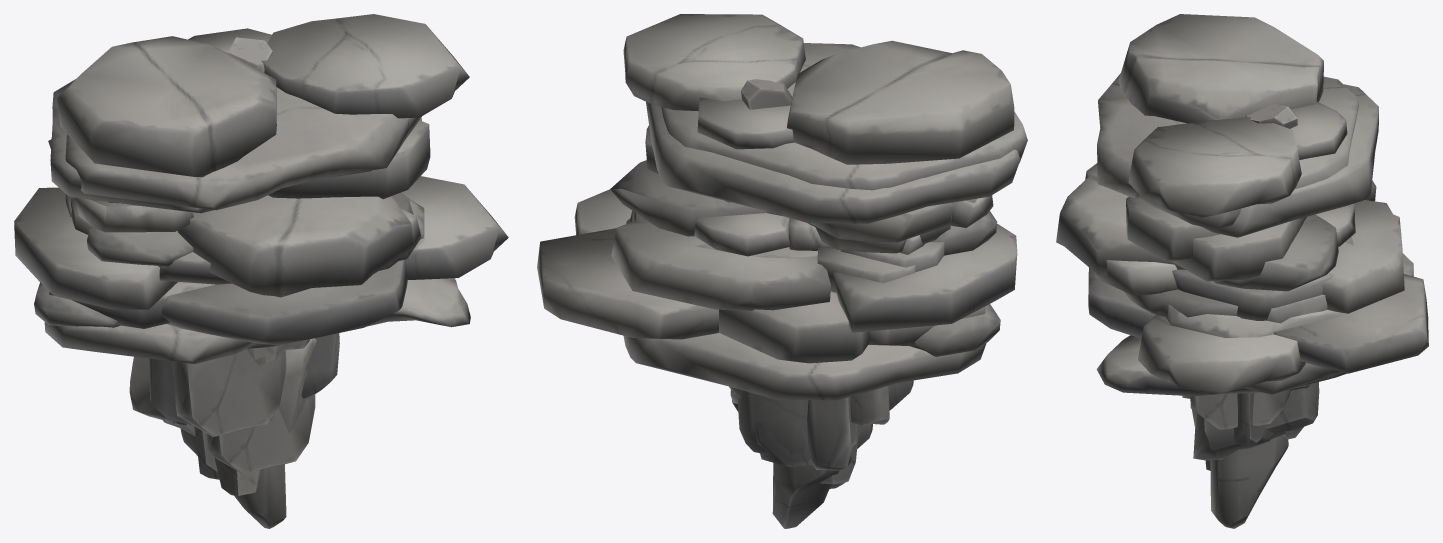
The model's file is waterfall_rocks.gltf.
3 renders of one model, left to right at view 1: azimuth 30°, elevation 25°; view 2: azimuth 150°, elevation 25°; view 3: azimuth 270°, elevation 25°, orthographic. The views are drawn at different scales.
Visible parts, largest first — view 1: EN_WaterfallRock_08, EN_WaterfallRock_09, EN_WaterfallRock_07, EN_WaterfallRock_03, EN_WaterfallRock_01, EN_WaterfallRock_04, EN_WaterfallRock_10, EN_WaterfallRock_02, EN_WaterfallRock_05, EN_WaterfallRock_06; view 2: EN_WaterfallRock_09, EN_WaterfallRock_08, EN_WaterfallRock_07, EN_WaterfallRock_01, EN_WaterfallRock_02, EN_WaterfallRock_10, EN_WaterfallRock_03, EN_WaterfallRock_05; view 3: EN_WaterfallRock_08, EN_WaterfallRock_09, EN_WaterfallRock_07, EN_WaterfallRock_10, EN_WaterfallRock_01, EN_WaterfallRock_04, EN_WaterfallRock_02, EN_WaterfallRock_03, EN_WaterfallRock_05.
Part boxes in pixels (<box>): EN_WaterfallRock_08: <box>57,14,469,234</box>; EN_WaterfallRock_09: <box>34,176,508,363</box>; EN_WaterfallRock_07: <box>14,79,470,348</box>; EN_WaterfallRock_03: <box>163,338,316,436</box>; EN_WaterfallRock_01: <box>129,333,339,425</box>; EN_WaterfallRock_04: <box>207,339,315,473</box>; EN_WaterfallRock_10: <box>180,429,286,528</box>; EN_WaterfallRock_02: <box>173,348,270,495</box>; EN_WaterfallRock_05: <box>227,37,272,72</box>; EN_WaterfallRock_06: <box>194,426,219,479</box>; EN_WaterfallRock_09: <box>537,189,1000,400</box>; EN_WaterfallRock_08: <box>623,14,1027,272</box>; EN_WaterfallRock_07: <box>610,102,1020,345</box>; EN_WaterfallRock_01: <box>730,386,889,470</box>; EN_WaterfallRock_02: <box>737,390,859,488</box>; EN_WaterfallRock_10: <box>772,462,839,528</box>; EN_WaterfallRock_03: <box>730,380,913,467</box>; EN_WaterfallRock_05: <box>741,79,792,109</box>; EN_WaterfallRock_08: <box>1097,14,1358,281</box>; EN_WaterfallRock_09: <box>1056,163,1428,394</box>; EN_WaterfallRock_07: <box>1096,84,1378,396</box>; EN_WaterfallRock_10: <box>1210,435,1288,528</box>; EN_WaterfallRock_01: <box>1190,389,1290,429</box>; EN_WaterfallRock_04: <box>1193,384,1310,460</box>; EN_WaterfallRock_02: <box>1205,382,1319,470</box>; EN_WaterfallRock_03: <box>1182,393,1303,450</box>; EN_WaterfallRock_05: <box>1246,103,1297,128</box>.
Size of the model in its own units: 14.87 by 15.31 by 12.05.
Materials: 2 (2 with a texture image).
